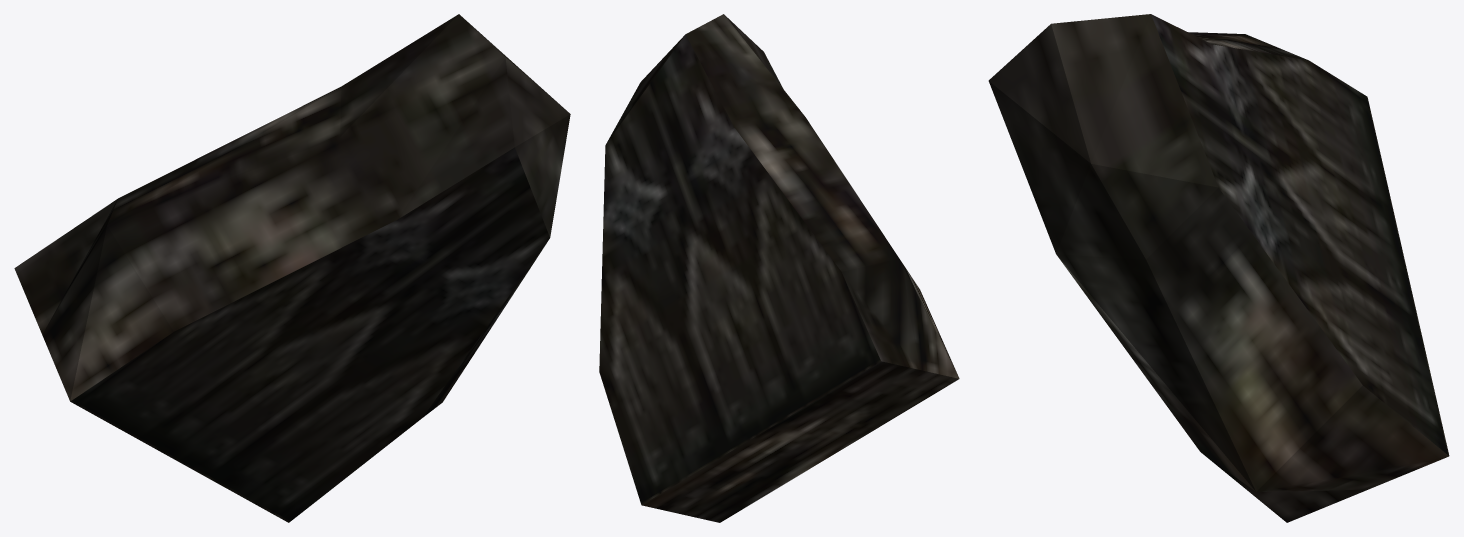
The model's file is sojghmj01.glb.
The picture shows the model from 3 angles, left to right: view 1: azimuth 30°, elevation 25°; view 2: azimuth 150°, elevation 25°; view 3: azimuth 270°, elevation 25°; orthographic projection. The views are drawn at different scales.
Visible parts, largest first — view 1: model_sojghmj01; view 2: model_sojghmj01; view 3: model_sojghmj01.
Part boxes in pixels (x1,y1,x2,y2): model_sojghmj01: (14, 14, 570, 522); model_sojghmj01: (599, 14, 959, 522); model_sojghmj01: (988, 14, 1449, 522).
Size of the model in its own units: 0.8751 by 0.9888 by 0.7322.
Materials: 1 (1 with a texture image).
